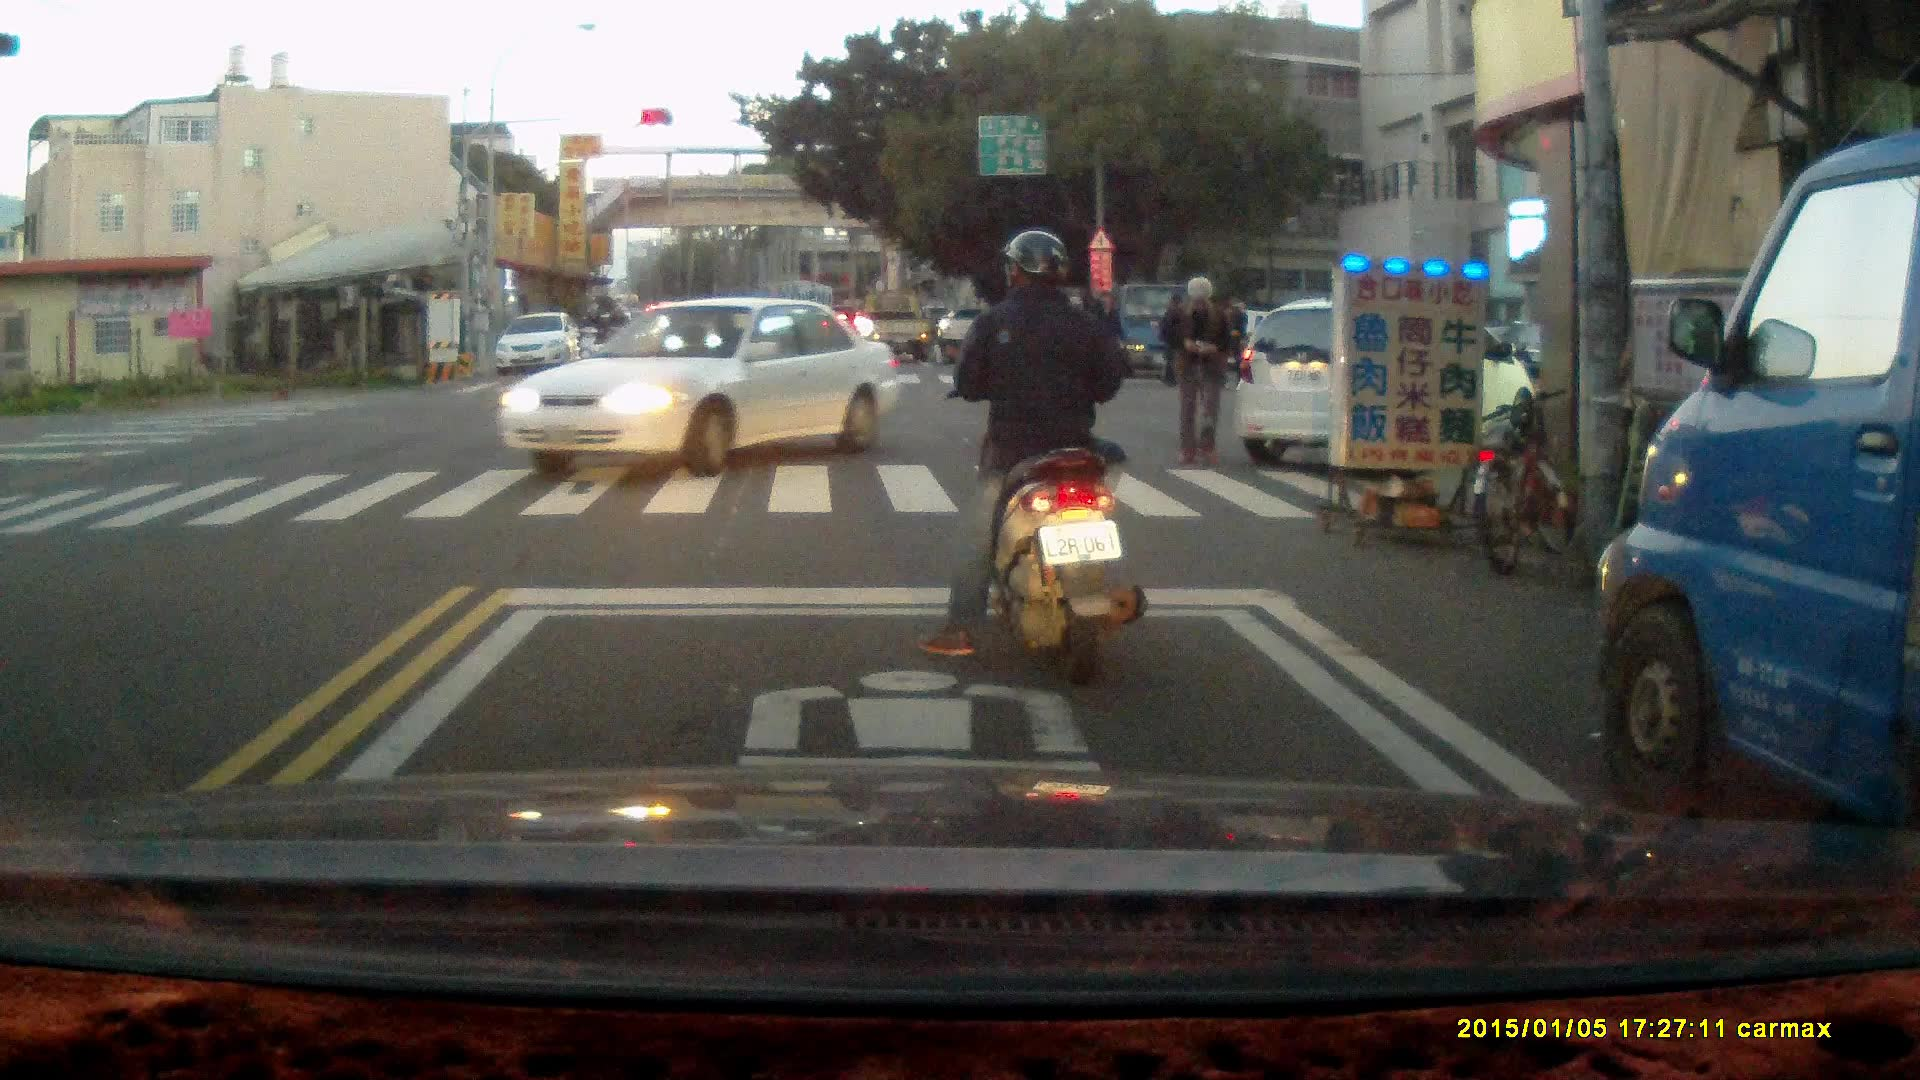pedestrian: (1164, 274, 1235, 468), (1088, 289, 1129, 388), (1160, 294, 1194, 391)
rider: (917, 232, 1148, 685), (595, 300, 632, 369), (577, 301, 612, 372)
vehicle: (1596, 120, 1920, 901), (499, 296, 905, 474), (1236, 303, 1533, 462), (493, 311, 584, 378), (859, 290, 937, 363)
